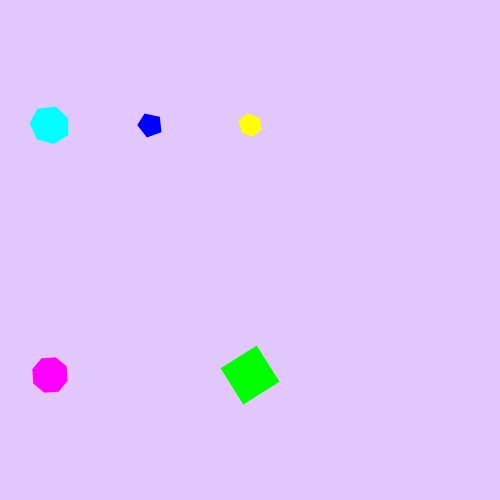heptagon: (27, 103, 74, 148)
hexagon: (234, 111, 267, 139)
octagon: (28, 353, 73, 398)
pentagon: (134, 109, 166, 141)
quadrilateral: (217, 342, 283, 408)
